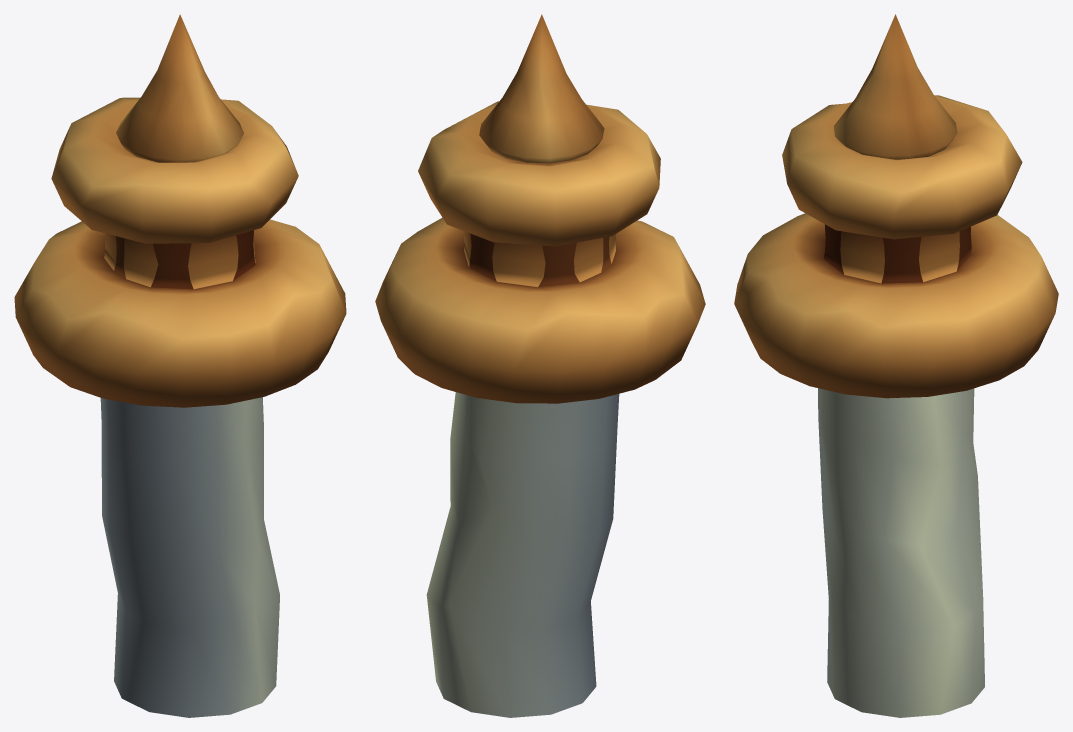
Rendered from elf_chimney.fbx.
3 views of the same model, side by side, from view 1: azimuth 30°, elevation 25°; view 2: azimuth 150°, elevation 25°; view 3: azimuth 270°, elevation 25° (orthographic). The views are drawn at different scales.
Parts seen in each view (by area): view 1: elf_chimney; view 2: elf_chimney; view 3: elf_chimney.
Boxes of the visible parts, x1,y1,x2,y2 form: elf_chimney: [14, 14, 346, 717]; elf_chimney: [375, 14, 705, 717]; elf_chimney: [734, 14, 1058, 717].
Bounding box in the file's own units: 222 × 503 × 224.
